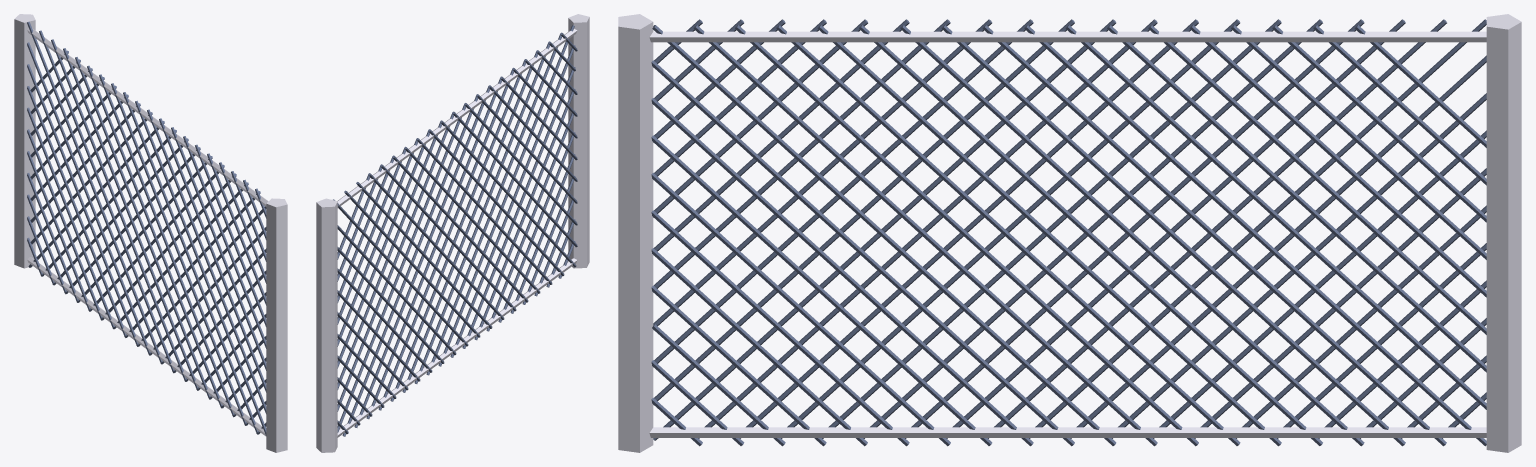
Rendered from fence.fbx.
3 renders of one model, left to right at view 1: azimuth 30°, elevation 25°; view 2: azimuth 150°, elevation 25°; view 3: azimuth 270°, elevation 25°, orthographic. The views are drawn at different scales.
Visible parts, largest first — view 1: Cylinder.1285; view 2: Cylinder.1285; view 3: Cylinder.1285.
Part boxes in pixels (left/top/right/bottom): Cylinder.1285: left=14, top=14, right=287, bottom=452; Cylinder.1285: left=316, top=14, right=589, bottom=452; Cylinder.1285: left=618, top=14, right=1521, bottom=452.
Bounding box in the file's own units: 20.22 × 256 × 494.
